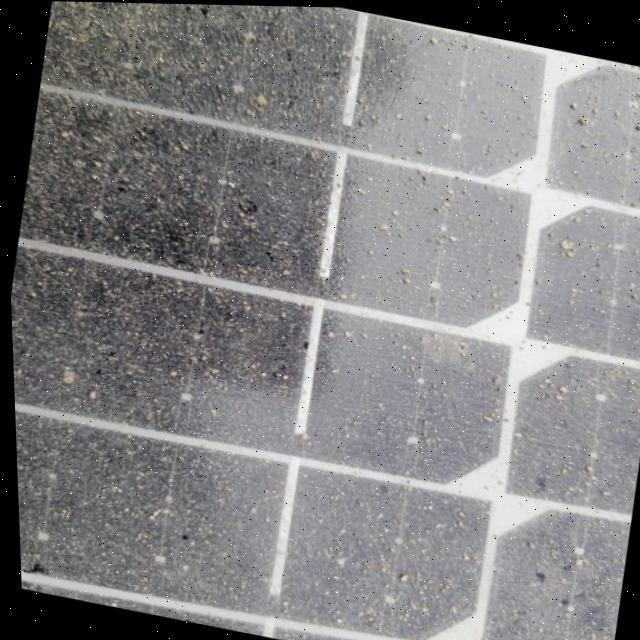Surface Contaminant: (8, 1, 640, 640)
